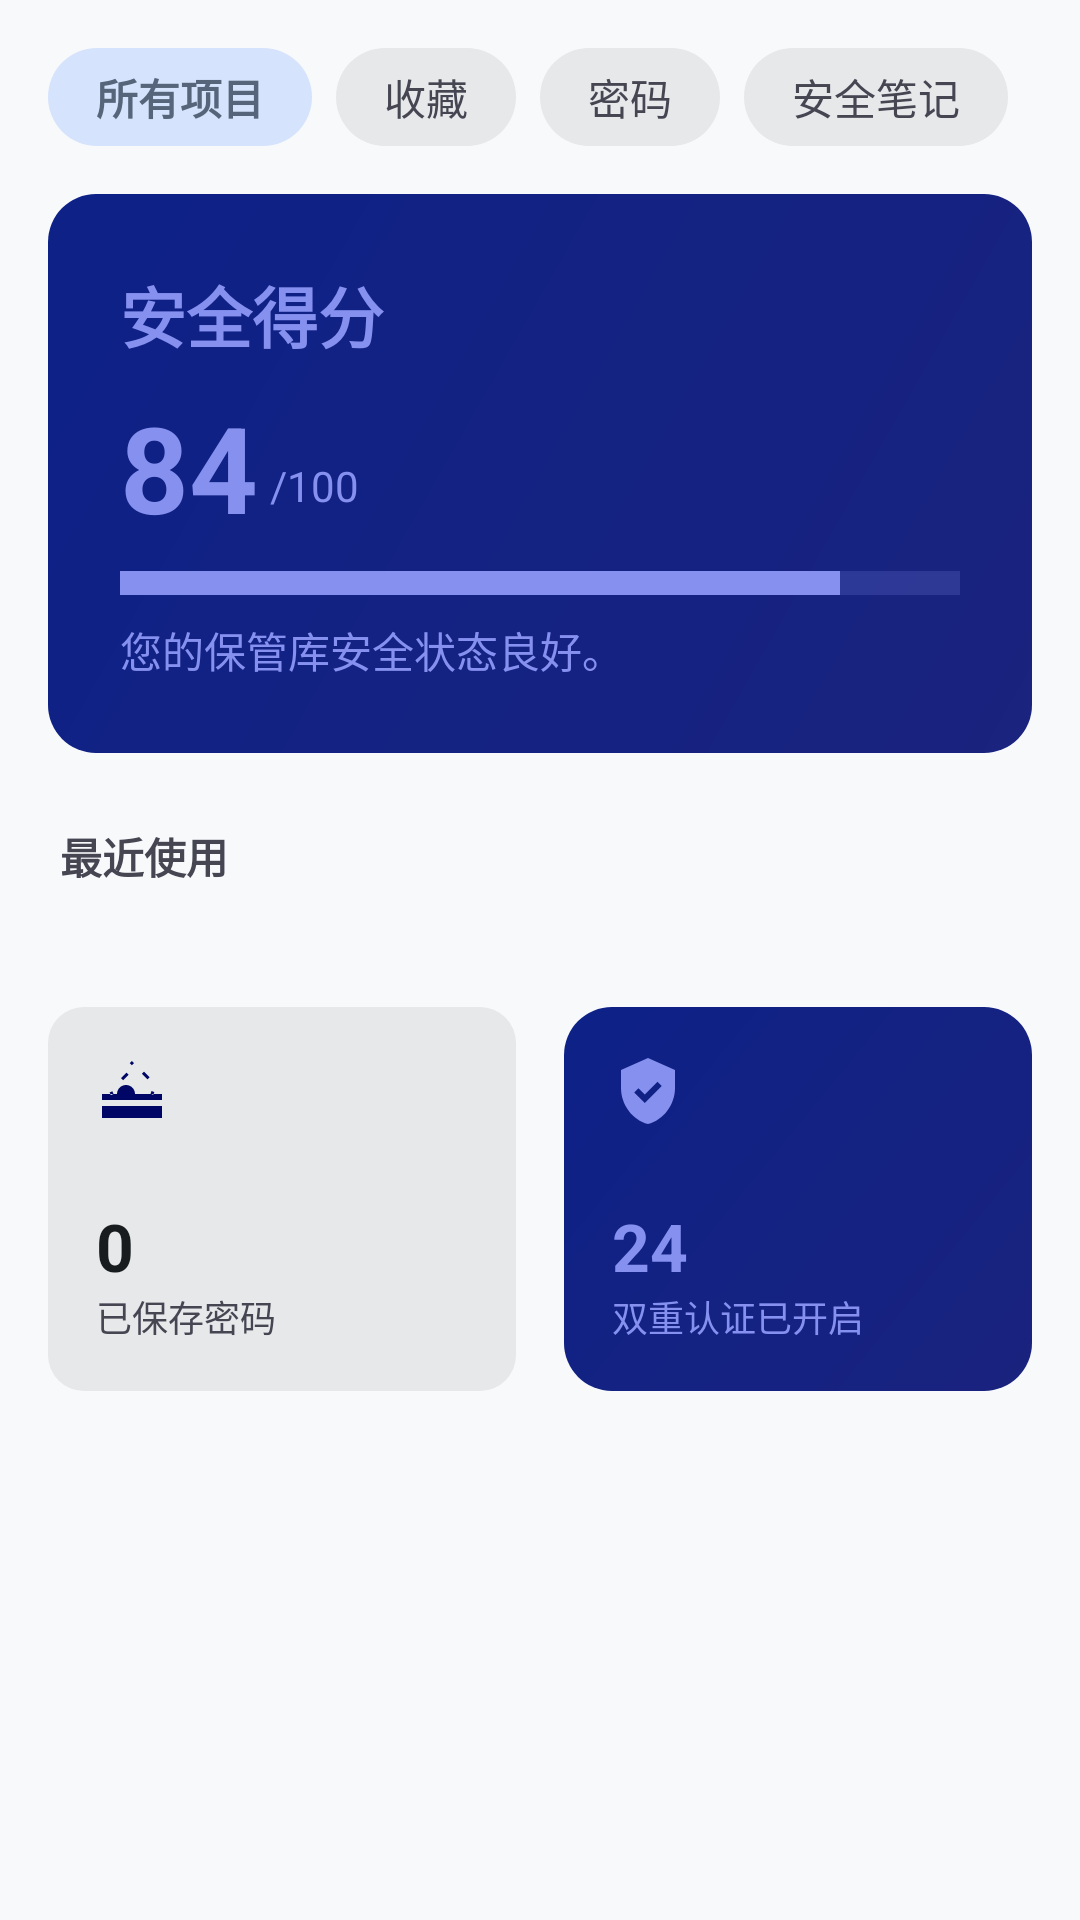

Named icons in this screenshot (1080px x 1920px) and their centers, [x,y]:
verified user: [648,1091]
